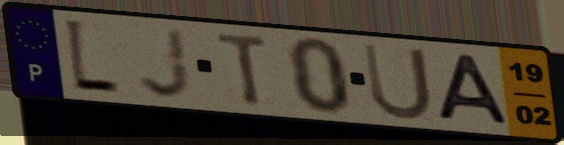0: (280, 34, 357, 117)
A: (432, 51, 515, 128)
J: (135, 25, 195, 101)
L: (61, 15, 123, 99)
T: (213, 30, 272, 108)
U: (359, 40, 436, 123)
